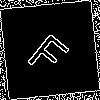F: (25, 25, 77, 79)
